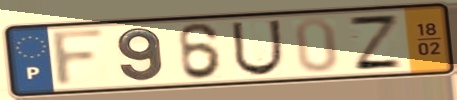0: (292, 16, 342, 75)
6: (174, 20, 223, 82)
9: (113, 25, 167, 85)
F: (49, 26, 109, 90)
U: (228, 18, 285, 78)
Z: (345, 14, 407, 72)
